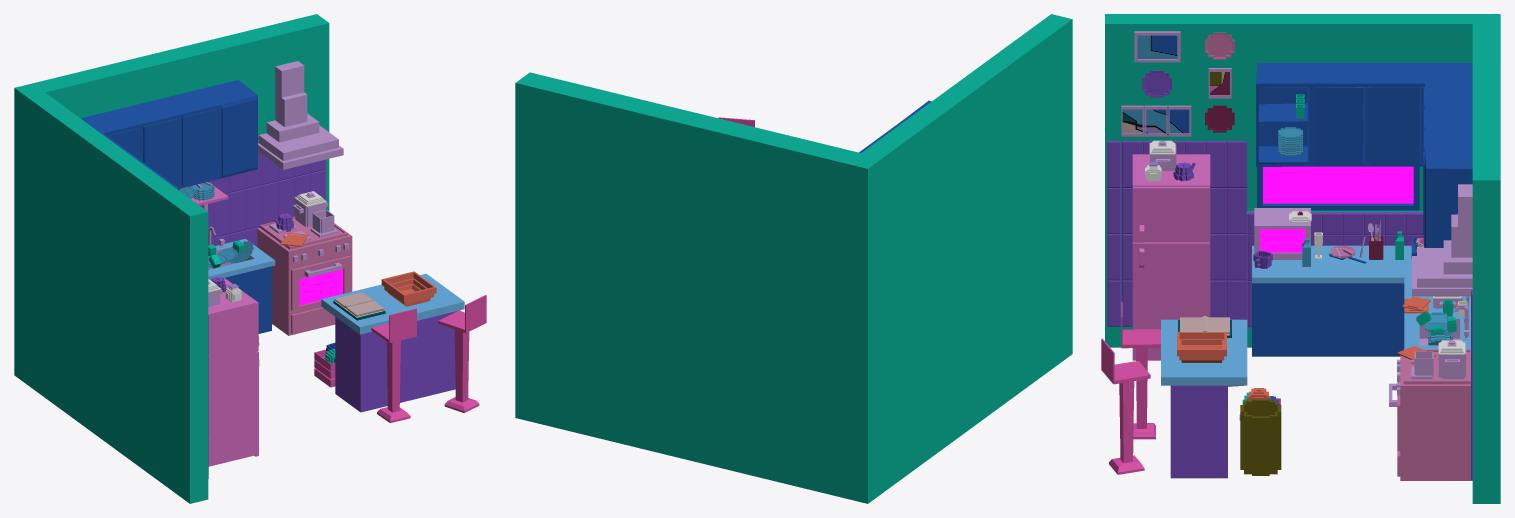
The model's file is Kitchen Forniture.fbx.
The picture shows the model from 3 angles, left to right: view 1: azimuth 30°, elevation 25°; view 2: azimuth 150°, elevation 25°; view 3: azimuth 270°, elevation 25°; orthographic projection. The views are drawn at different scales.
Parts seen in each view (by area): view 1: Side 1, Table, Oven, shelf, Fridge, ovenDoor, shelfDoorRight, Basket, Book, FridgeAccesory; view 2: Side 1; view 3: Side 1, shelf, Table, Oven, doorFridgeDown, doorFridgeUp, shelfDoorLeft, Objects, Fridge, Basket, FridgeAccesory, Book.
Boxes of the visible parts, box(x1,y1,x2,y2) form: Side 1: box(14, 14, 329, 503); Table: box(314, 273, 486, 423); Oven: box(257, 61, 352, 335); shelf: box(81, 80, 257, 190); Fridge: box(208, 280, 255, 466); ovenDoor: box(291, 255, 350, 310); shelfDoorRight: box(222, 99, 256, 175); Basket: box(381, 271, 436, 306); Book: box(333, 292, 385, 320); FridgeAccesory: box(208, 276, 241, 306); Side 1: box(515, 14, 1072, 503); Side 1: box(1105, 14, 1500, 503); shelf: box(1256, 63, 1472, 247); Table: box(1101, 301, 1281, 478); Oven: box(1396, 184, 1472, 480); doorFridgeDown: box(1132, 242, 1209, 360); doorFridgeUp: box(1133, 186, 1209, 242); shelfDoorLeft: box(1314, 87, 1363, 164); Objects: box(1253, 220, 1467, 316); Fridge: box(1132, 154, 1210, 317); Basket: box(1177, 332, 1226, 362); FridgeAccesory: box(1145, 140, 1195, 181); Book: box(1178, 316, 1231, 337).
Size of the model in its own units: 213 by 193 by 216.
